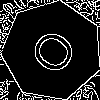O: (27, 25, 88, 84)
